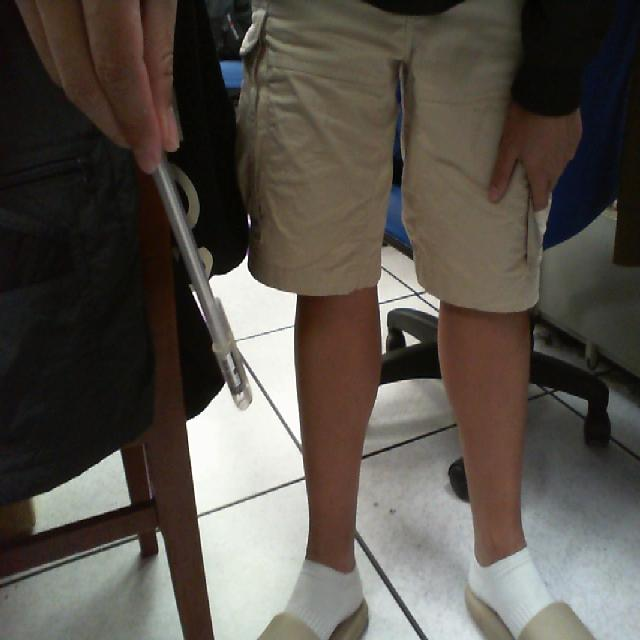Pen: (127, 132, 288, 469)
